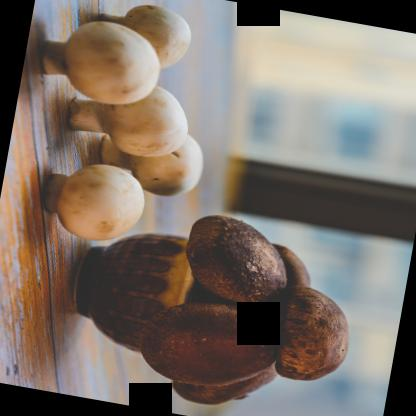mushroom: (144, 296, 280, 399), (29, 11, 166, 110), (55, 65, 191, 162), (174, 206, 300, 310), (35, 154, 150, 250), (93, 120, 209, 200), (272, 286, 356, 386), (86, 0, 197, 72)
